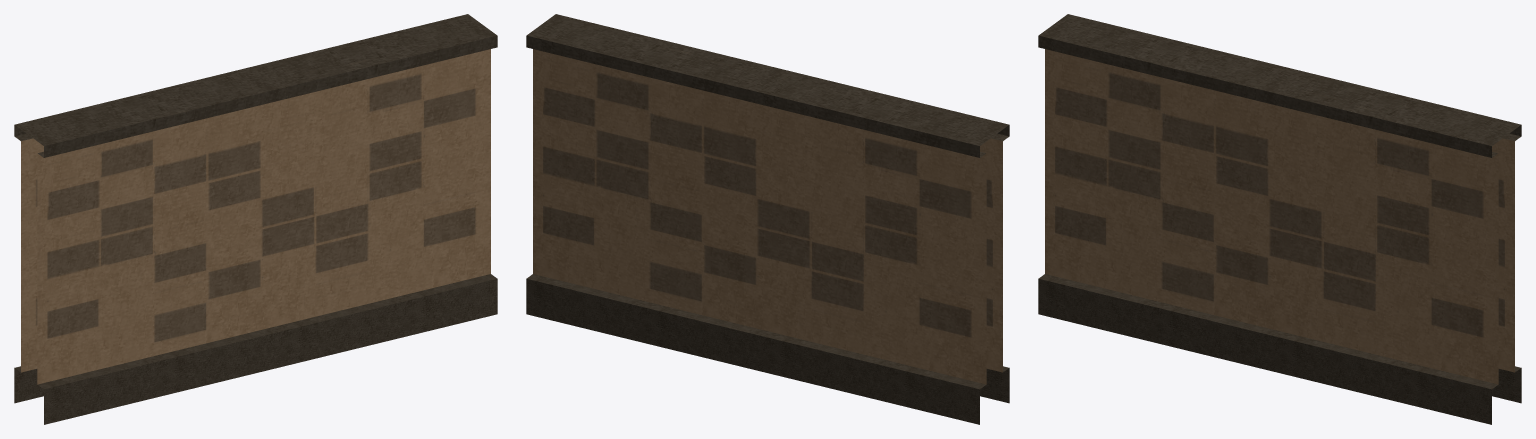
File: Wall_Half_Base_001.fbx
The picture shows the model from 3 angles, left to right: view 1: azimuth 30°, elevation 25°; view 2: azimuth 150°, elevation 25°; view 3: azimuth 330°, elevation 25°; orthographic projection.
Parts seen in each view (by area): view 1: Wall_Half_Base_001; view 2: Wall_Half_Base_001; view 3: Wall_Half_Base_001.
Part boxes in pixels (box(x1,y1,x2,y2)): Wall_Half_Base_001: box(14, 14, 497, 424); Wall_Half_Base_001: box(526, 14, 1009, 424); Wall_Half_Base_001: box(1038, 14, 1521, 424).
Size of the model in its own units: 400 by 235 by 45.
